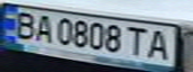0: (51, 16, 75, 46), (87, 20, 106, 52)
8: (103, 21, 127, 55), (69, 18, 90, 50)
A: (145, 27, 175, 61), (30, 12, 57, 43)
B: (9, 10, 39, 39)
T: (124, 25, 151, 57)
